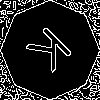K: (25, 25, 81, 81)
